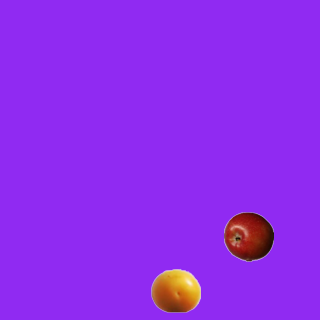Apple Braeburn: (223, 211, 273, 261)
Cherry Wax Yellow: (150, 265, 200, 315)
